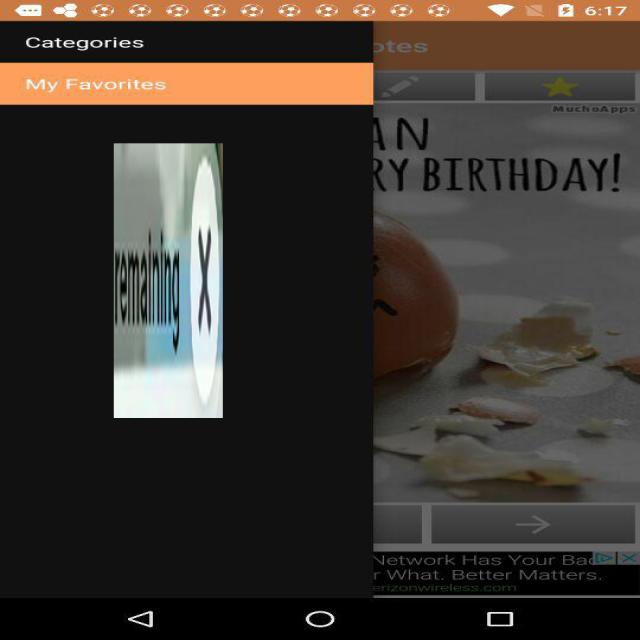misdirection: (114, 143, 223, 418)
